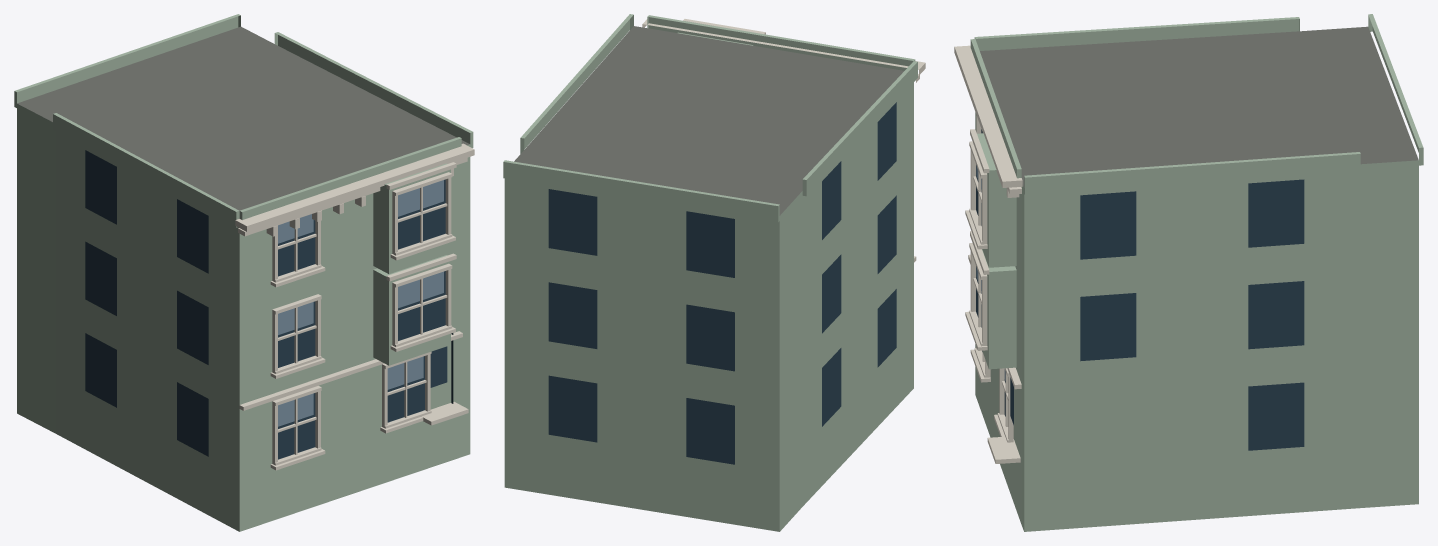
3 views of the same model, side by side, from view 1: azimuth 30°, elevation 25°; view 2: azimuth 150°, elevation 25°; view 3: azimuth 270°, elevation 25° (orthographic). The views are drawn at different scales.
Parts seen in each view (by area): view 1: Footprint 0 / surface 2, Footprint 0 / surface 1, Inset glazing, Cornices and window frames, Facade bay volumes, Sky reflection panels; view 2: Footprint 0 / surface 2, Footprint 0 / surface 1, Inset glazing, Facade bay volumes, Cornices and window frames; view 3: Footprint 0 / surface 2, Footprint 0 / surface 1, Facade bay volumes, Inset glazing, Cornices and window frames.
Boxes of the visible parts, x1,y1,x2,y2 form: Footprint 0 / surface 2: (17, 103, 470, 531); Footprint 0 / surface 1: (17, 26, 469, 210); Inset glazing: (85, 150, 447, 459); Cornices and window frames: (235, 143, 474, 470); Facade bay volumes: (14, 14, 473, 365); Sky reflection panels: (278, 180, 443, 426); Footprint 0 / surface 2: (504, 82, 913, 531); Footprint 0 / surface 1: (514, 26, 903, 215); Inset glazing: (548, 102, 896, 464); Facade bay volumes: (503, 14, 917, 222); Cornices and window frames: (642, 19, 925, 262); Footprint 0 / surface 2: (975, 112, 1418, 531); Footprint 0 / surface 1: (980, 26, 1418, 187); Facade bay volumes: (970, 14, 1423, 369); Inset glazing: (976, 129, 1304, 450); Cornices and window frames: (954, 45, 1022, 463).
Bounding box in the file's own units: 9.91 × 10.06 × 12.
